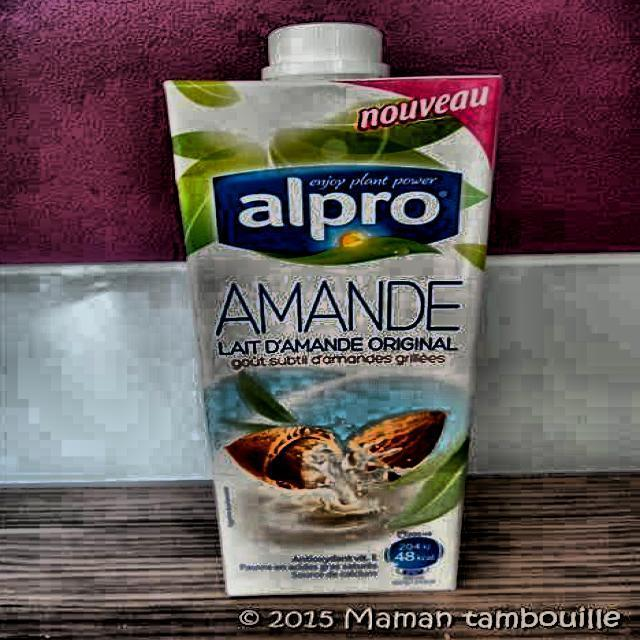cardboard: (161, 61, 502, 595)
